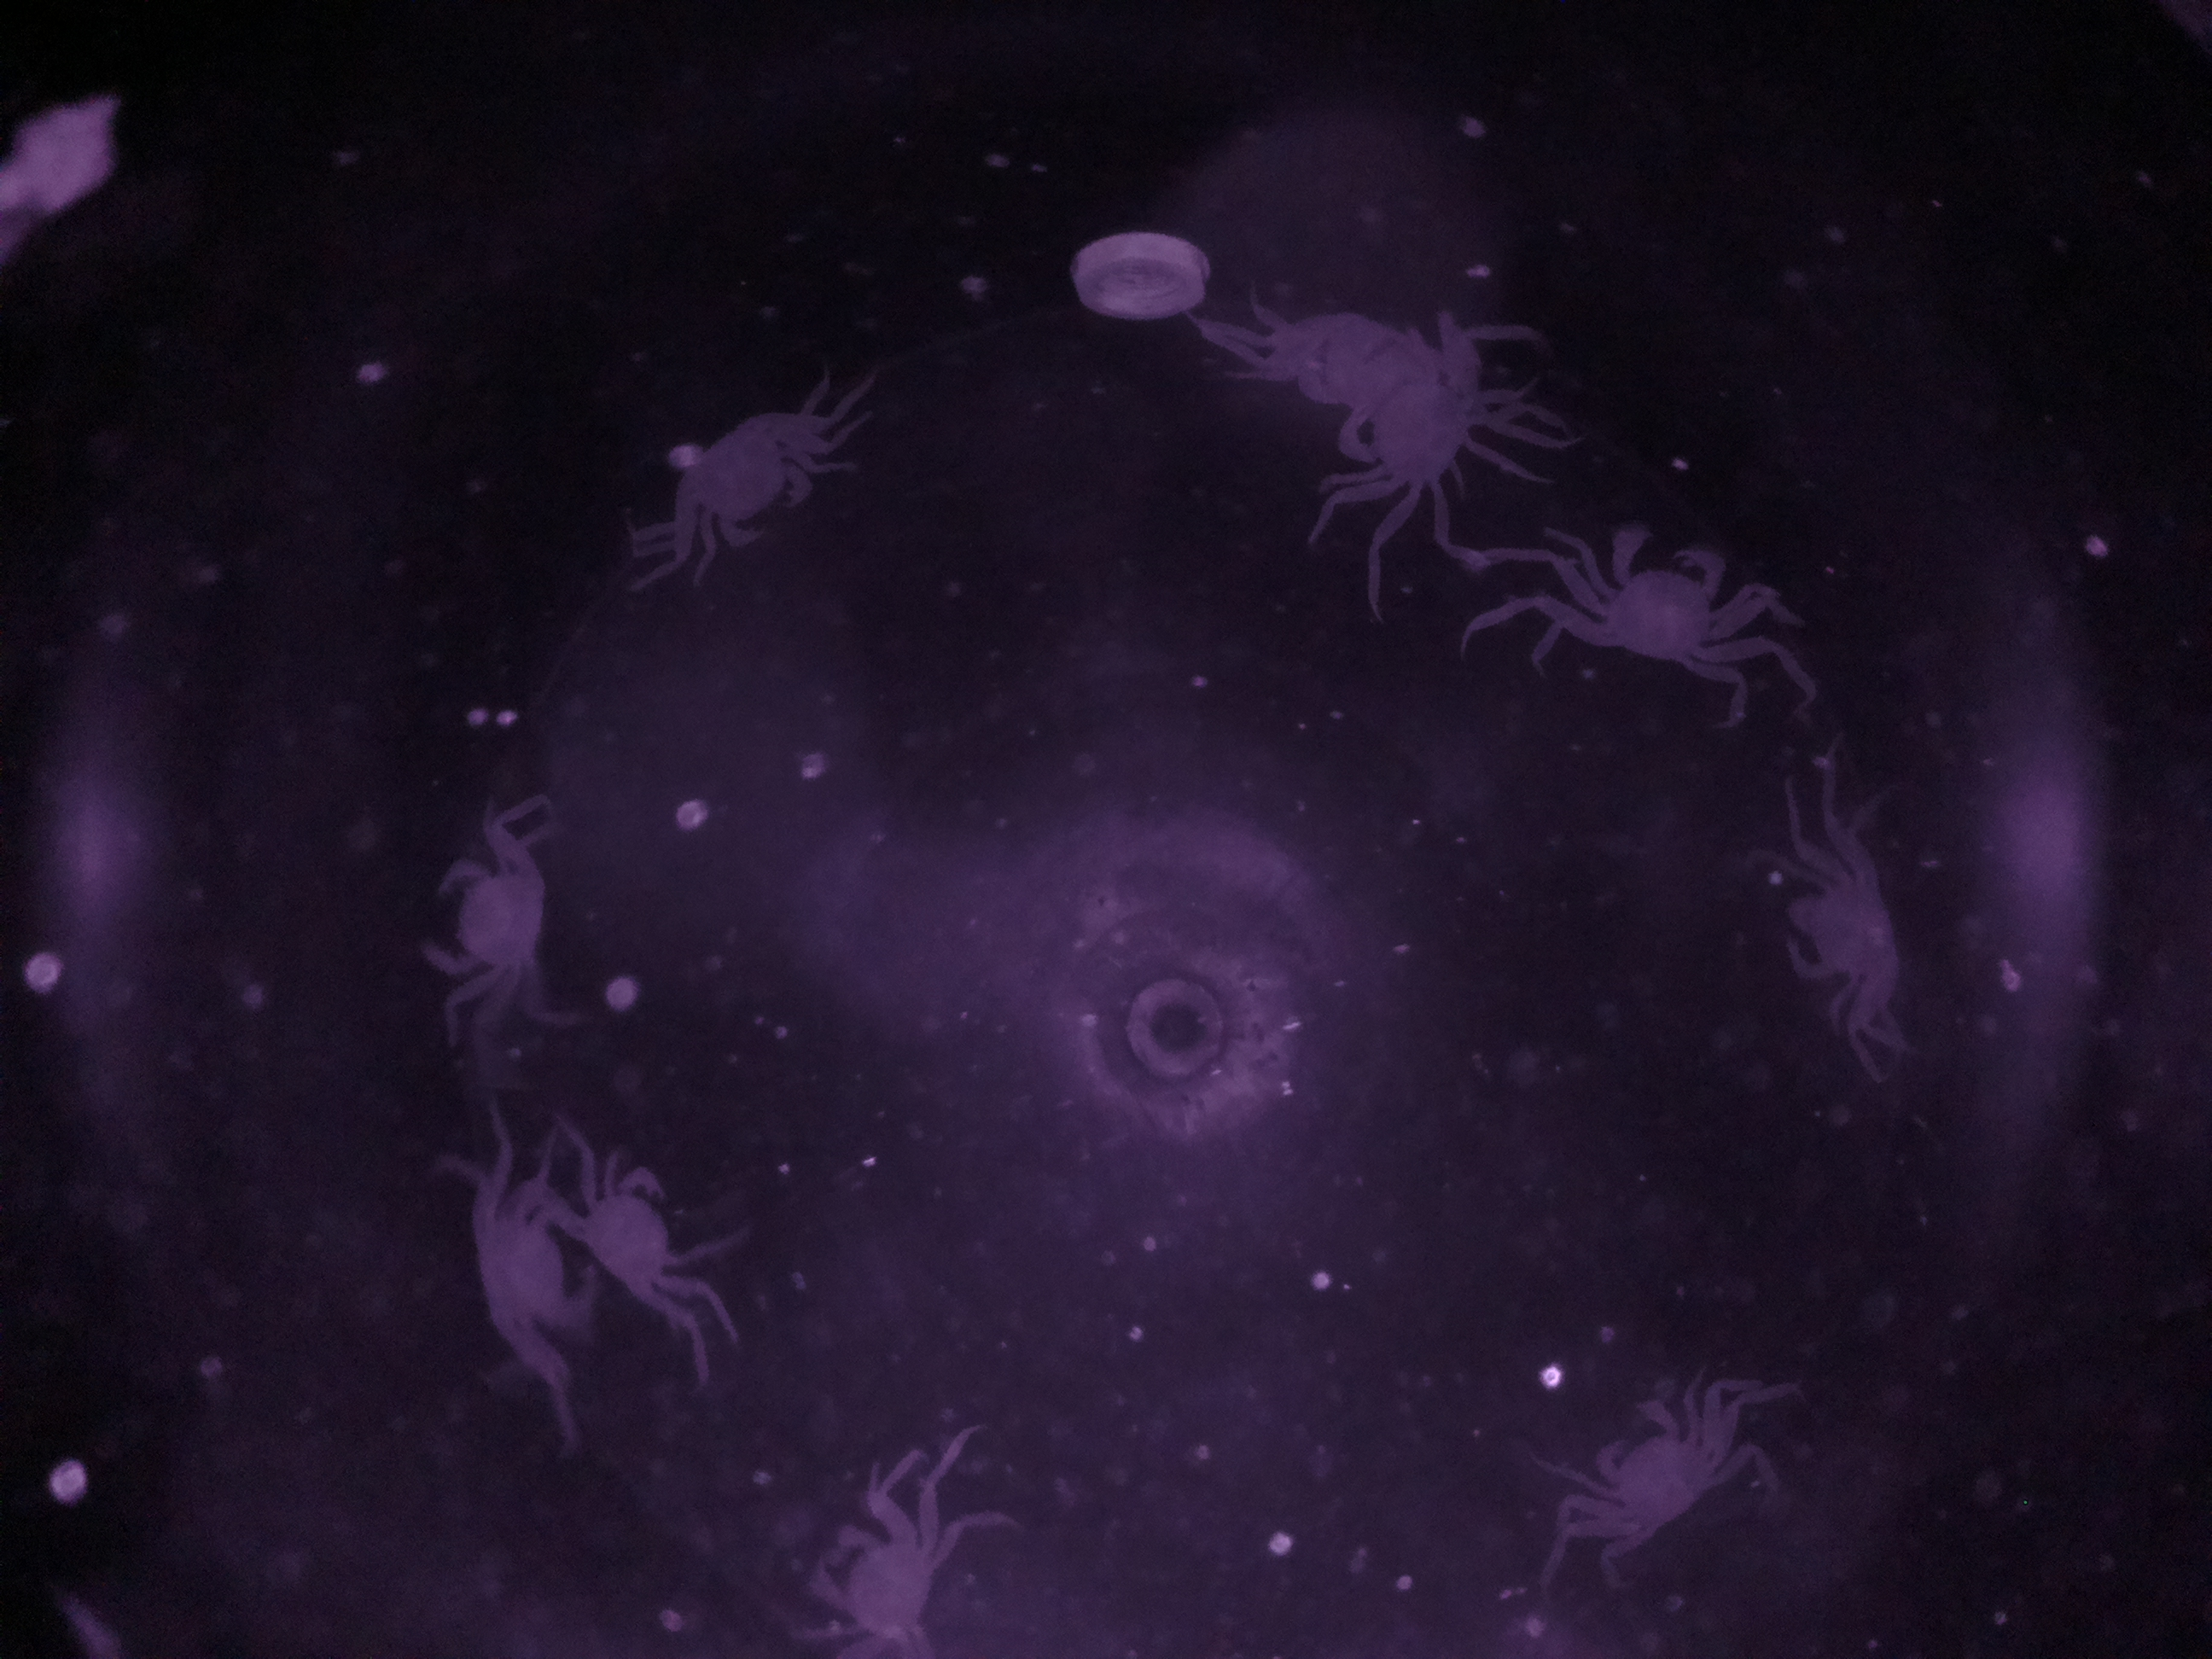Crab: (1536, 504, 1766, 687), (409, 819, 596, 1021), (660, 369, 827, 579), (798, 1467, 972, 1659), (1571, 1378, 1743, 1554), (559, 1141, 719, 1326)
